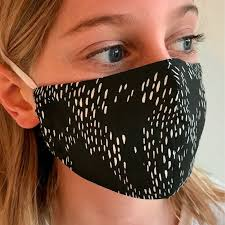FaceMask: (33, 58, 206, 199)
